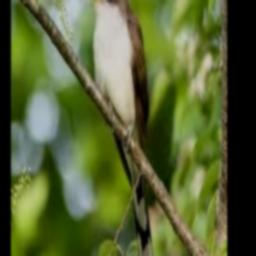Cuckoo: (83, 0, 156, 256)
